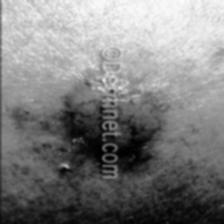Potentially Malignant Skin Tumors: (64, 80, 165, 152)
